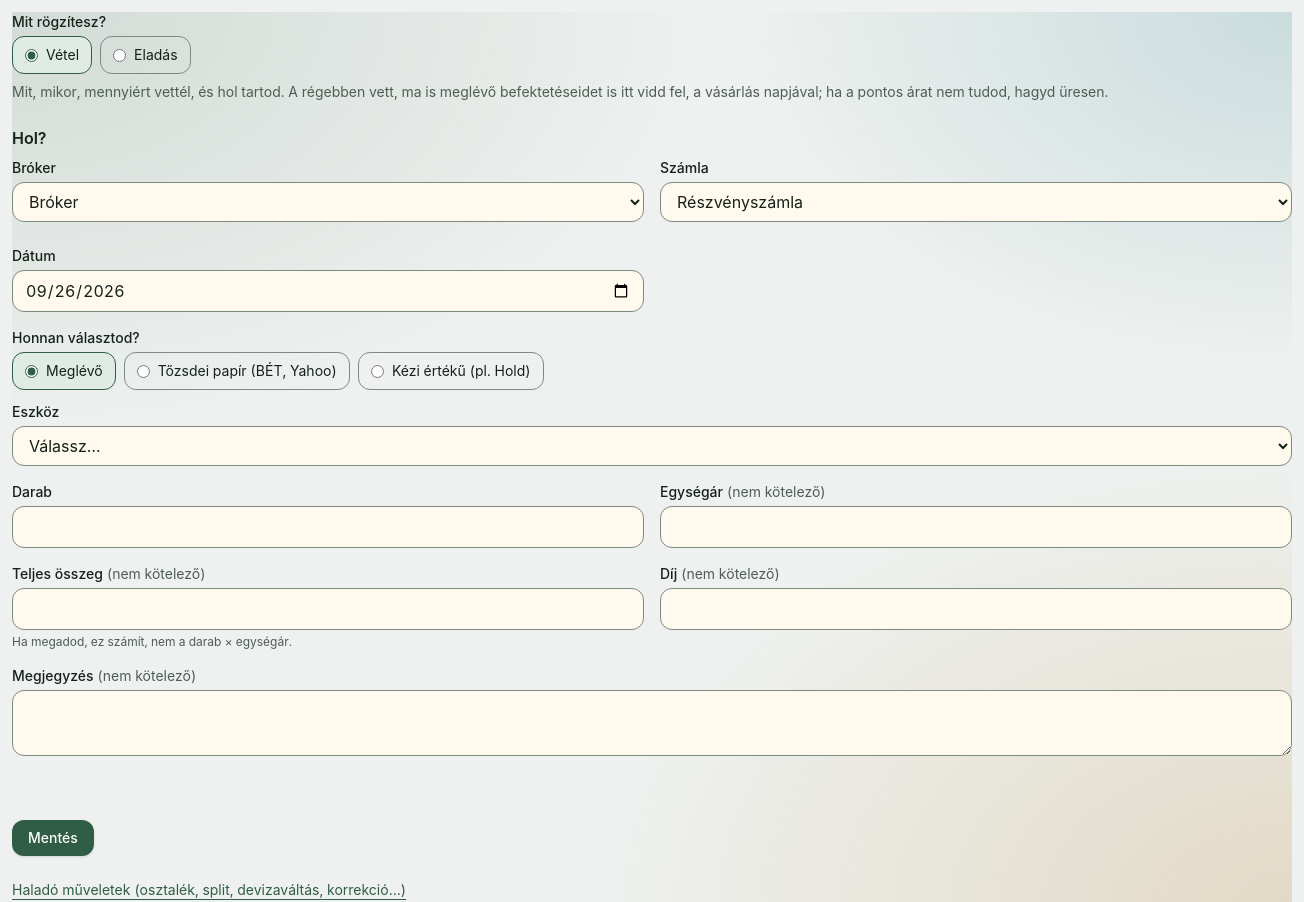
Test: EntryForm – Vétel and Eladás (4c plan §2, without the Mai állomány tab since 2026-09-27) › a BÉT paper already there without a close for the day asks for the price (#45)
Select "Richter · HUF" in the dropdown labelled "Eszköz" at [652, 446], box [12,426,1292,466]
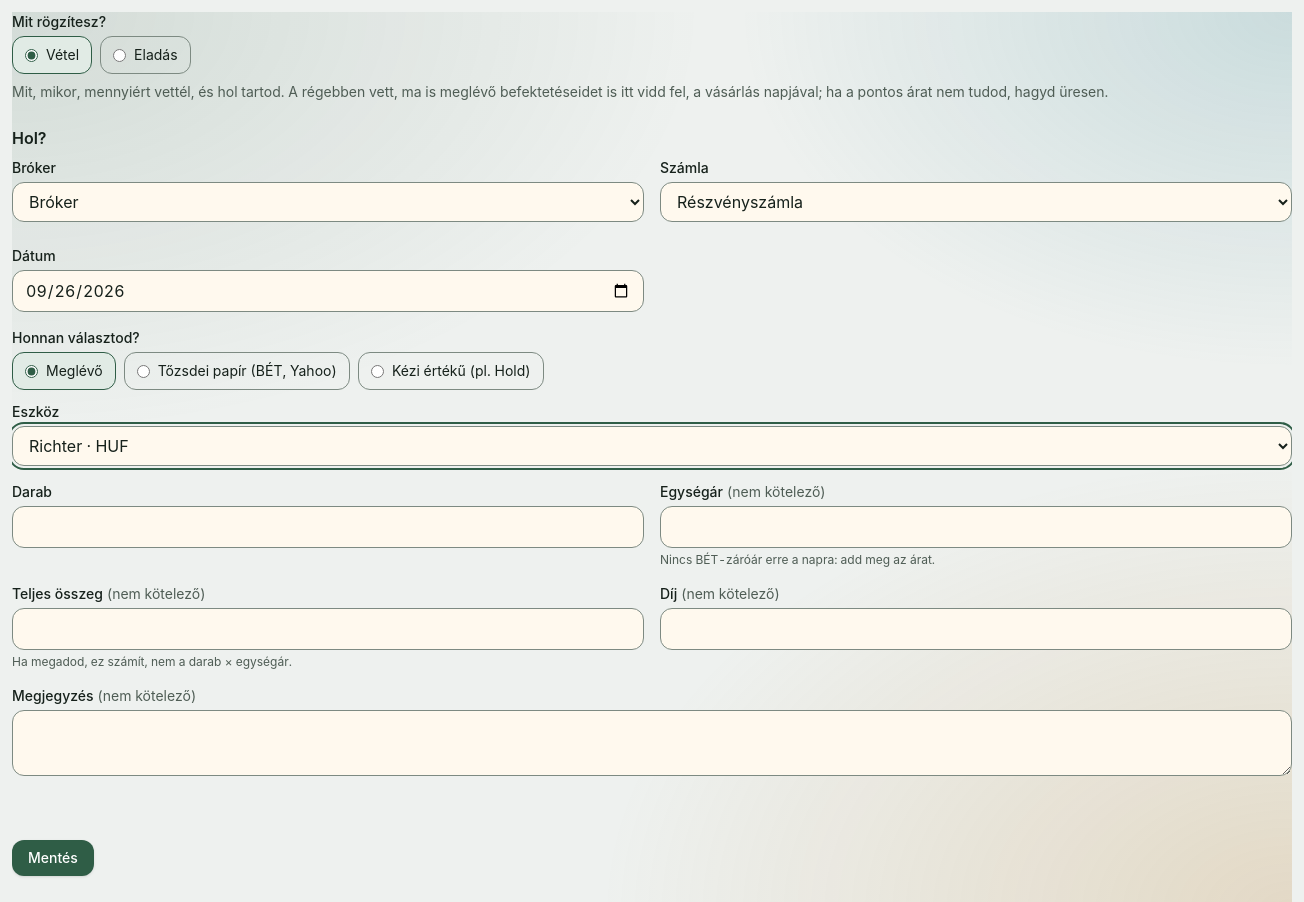
expect the text "Nincs BÉT-záróár erre a napra: add meg az árat." is shown: met, box [660,552,935,567]
